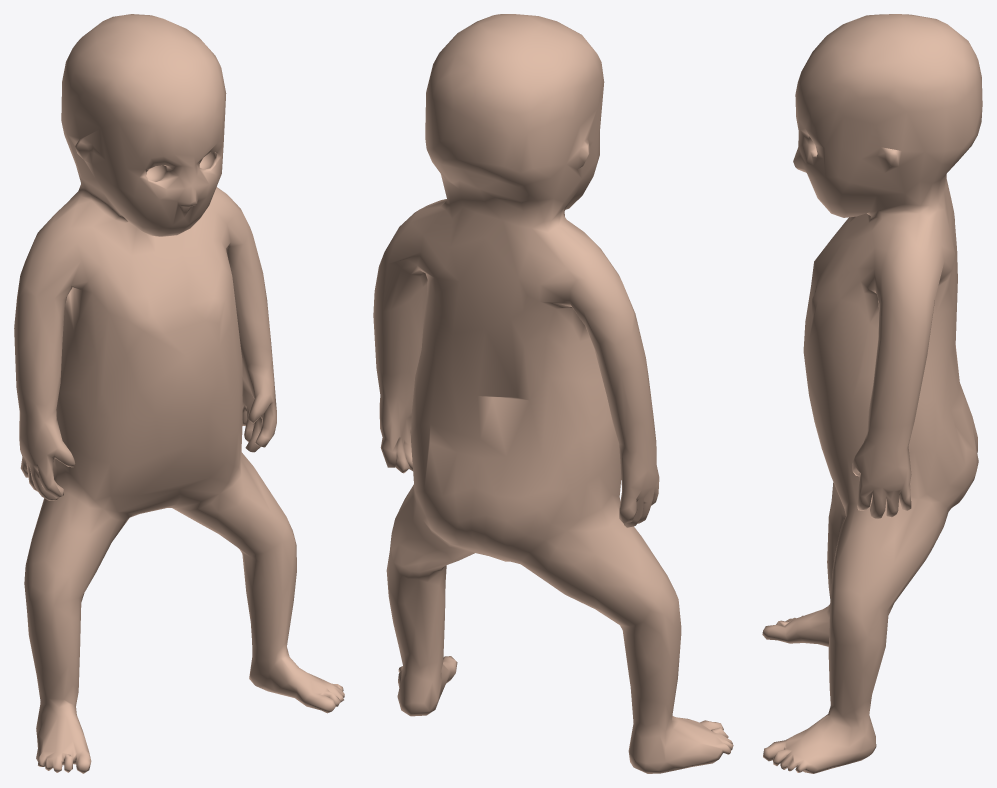
File: pediatric_neonate_female.surface.LOD3.glb
3 renders of one model, left to right at view 1: azimuth 30°, elevation 25°; view 2: azimuth 150°, elevation 25°; view 3: azimuth 270°, elevation 25°, orthographic. The views are drawn at different scales.
Parts seen in each view (by area): view 1: PEDIATRIC.NEONATE.FEMALE.SURFACE.SKIN; view 2: PEDIATRIC.NEONATE.FEMALE.SURFACE.SKIN; view 3: PEDIATRIC.NEONATE.FEMALE.SURFACE.SKIN.
Boxes of the visible parts, x1,y1,x2,y2 form: PEDIATRIC.NEONATE.FEMALE.SURFACE.SKIN: (14,14,344,773); PEDIATRIC.NEONATE.FEMALE.SURFACE.SKIN: (373,14,733,773); PEDIATRIC.NEONATE.FEMALE.SURFACE.SKIN: (762,14,982,773).
Bounding box in the file's own units: 0.2281 × 0.4819 × 0.1407.
